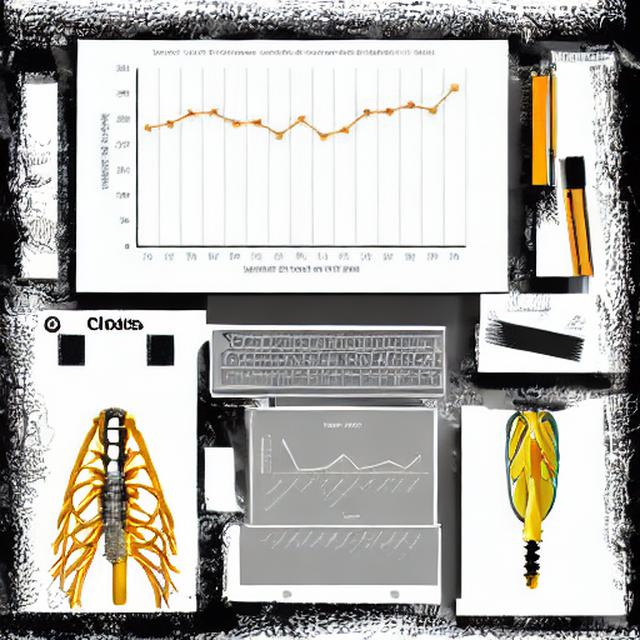Graph: (91, 44, 475, 286), (253, 416, 434, 526)
